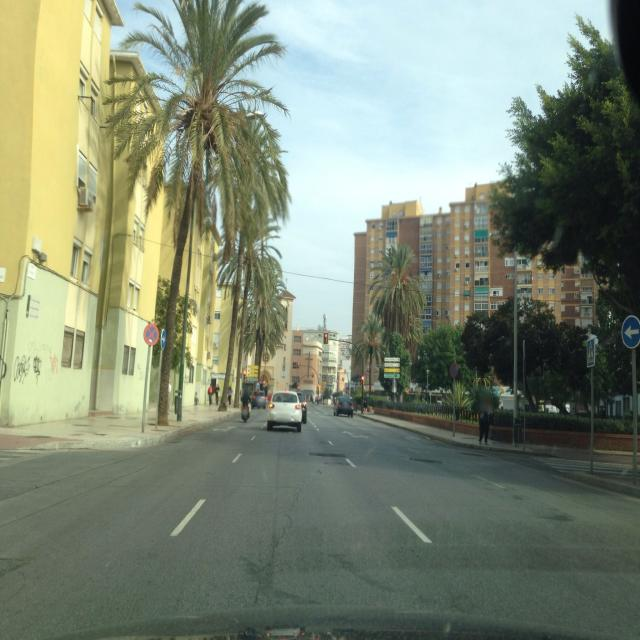forb_stopping: (142, 323, 160, 347)
forb_waiting: (450, 362, 459, 378)
